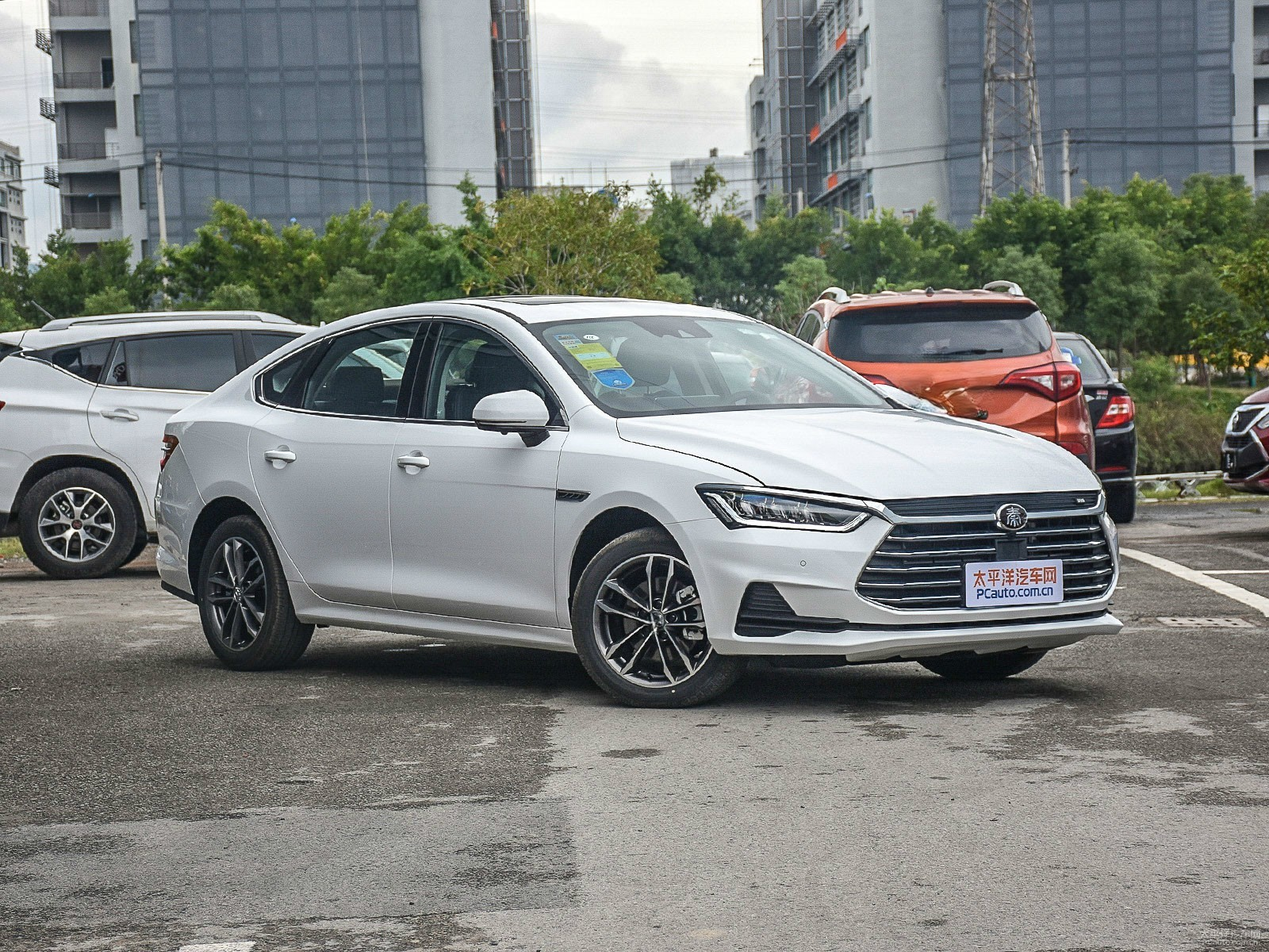BYD Qin: (997, 504, 1027, 530)
